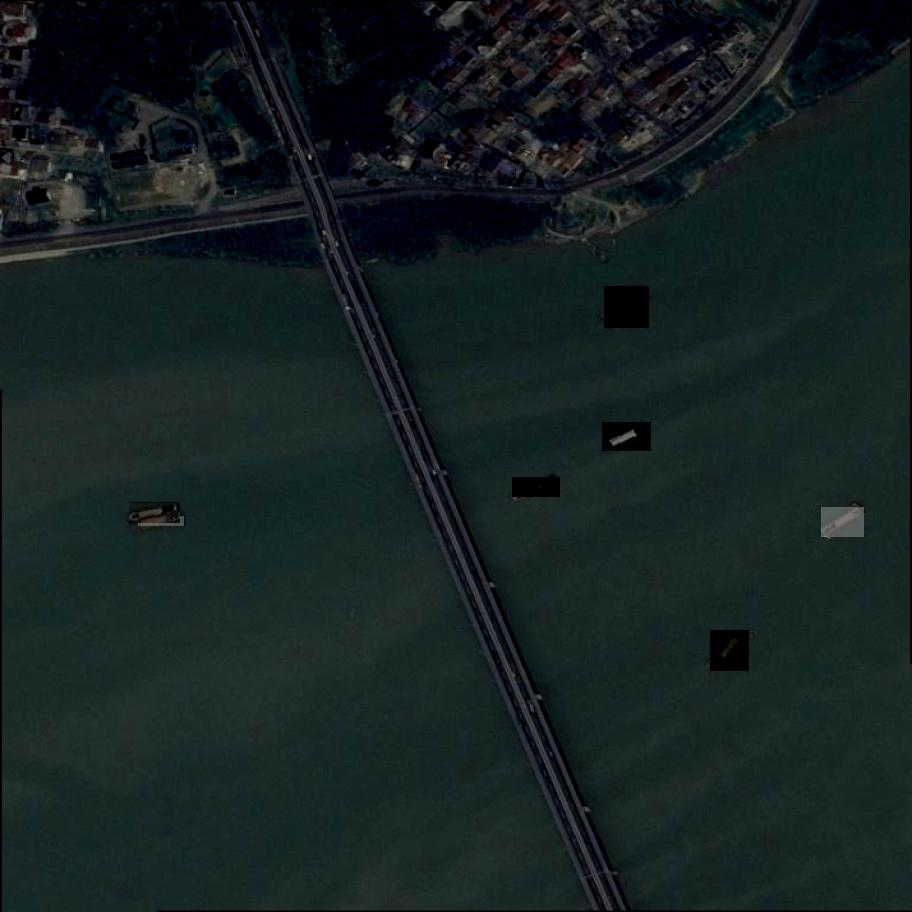ship: (604, 284, 649, 329), (710, 628, 750, 673), (603, 422, 651, 452), (821, 507, 865, 538), (129, 503, 181, 526), (512, 477, 560, 499), (138, 516, 184, 527)
